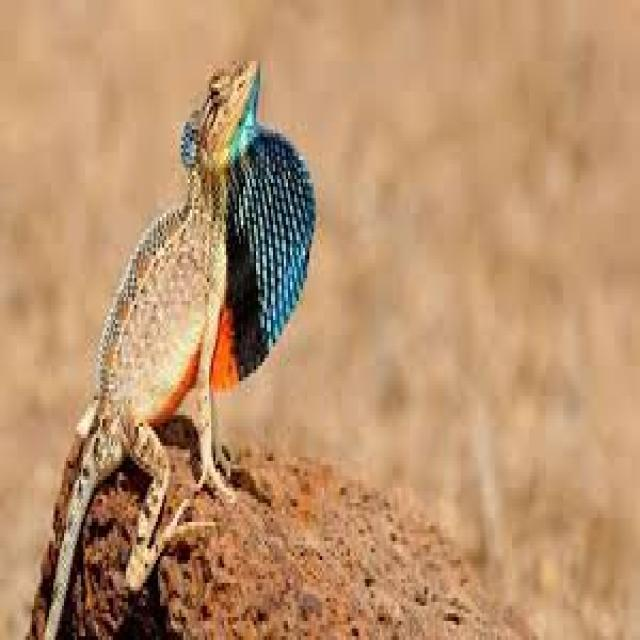Lizard: (39, 50, 319, 640)
